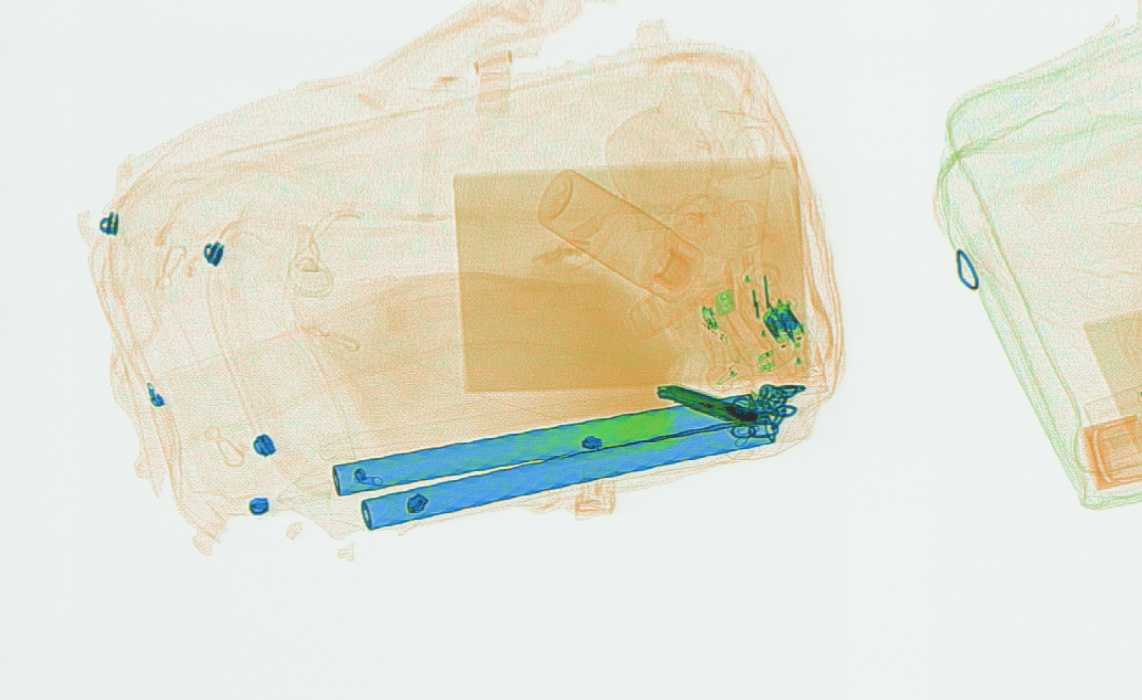knife: (654, 380, 757, 427)
